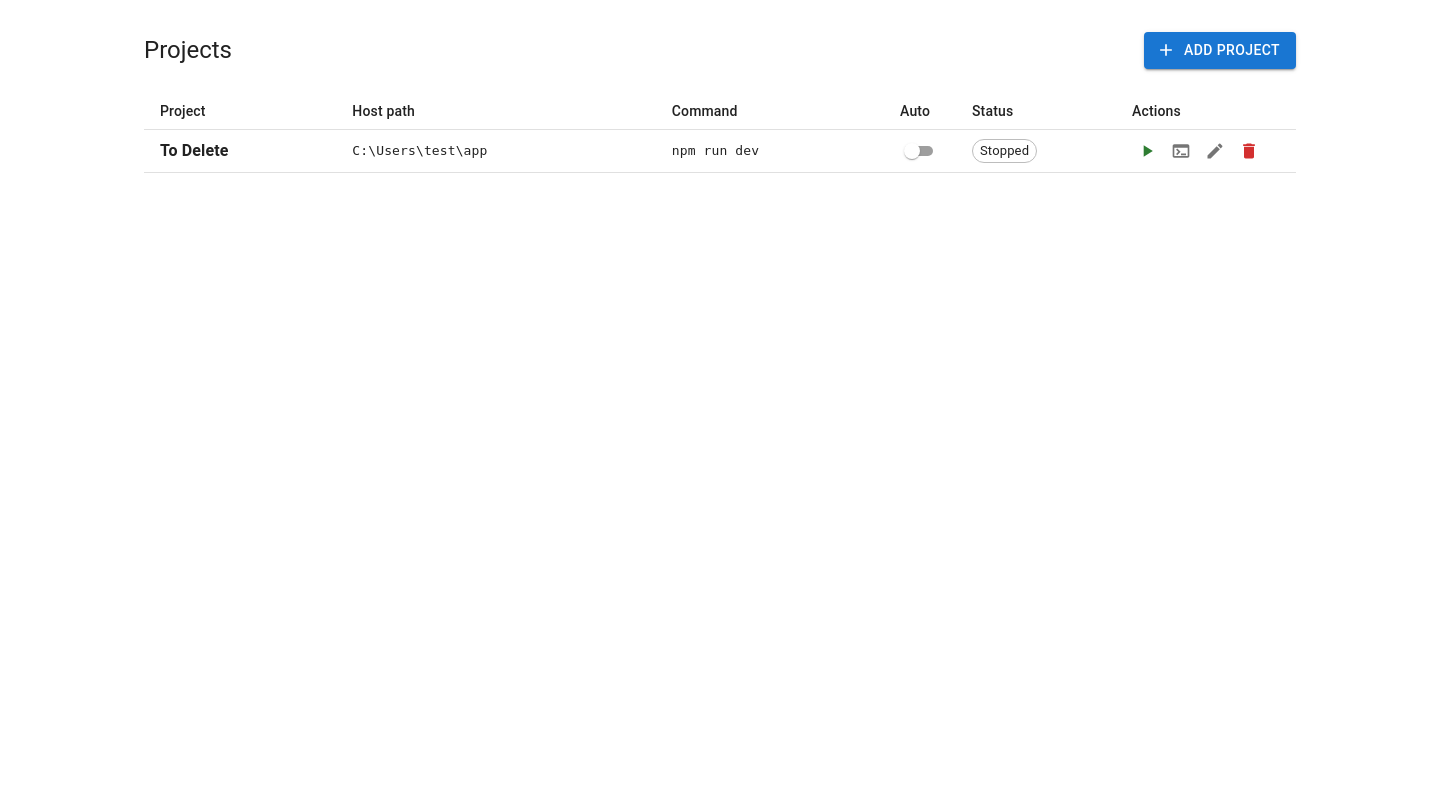
it: ProjectRegistryPage › opens delete confirmation dialog when Delete project is clicked
The image size is (1440, 810).
Expected: the text "To Delete" is shown, [160,140,229,160]
Click the button named "Delete project".
click(1249, 150)  # box [1234,136,1264,166]
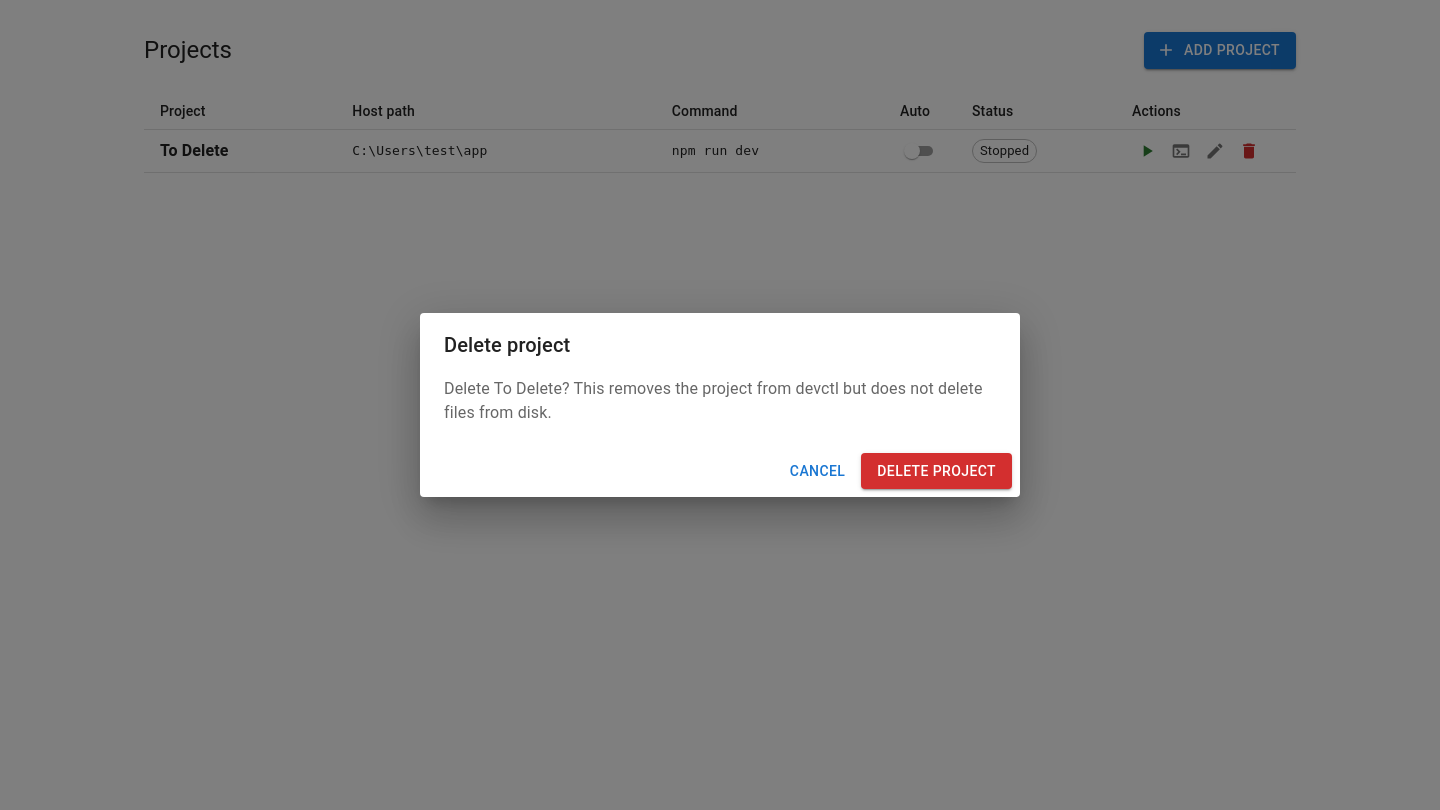
Now the text "Delete To Delete? This removes the project from devctl" is shown, box [444,377,996,425]
